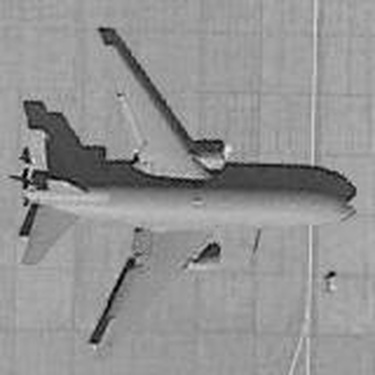airplane: (7, 6, 358, 359)
